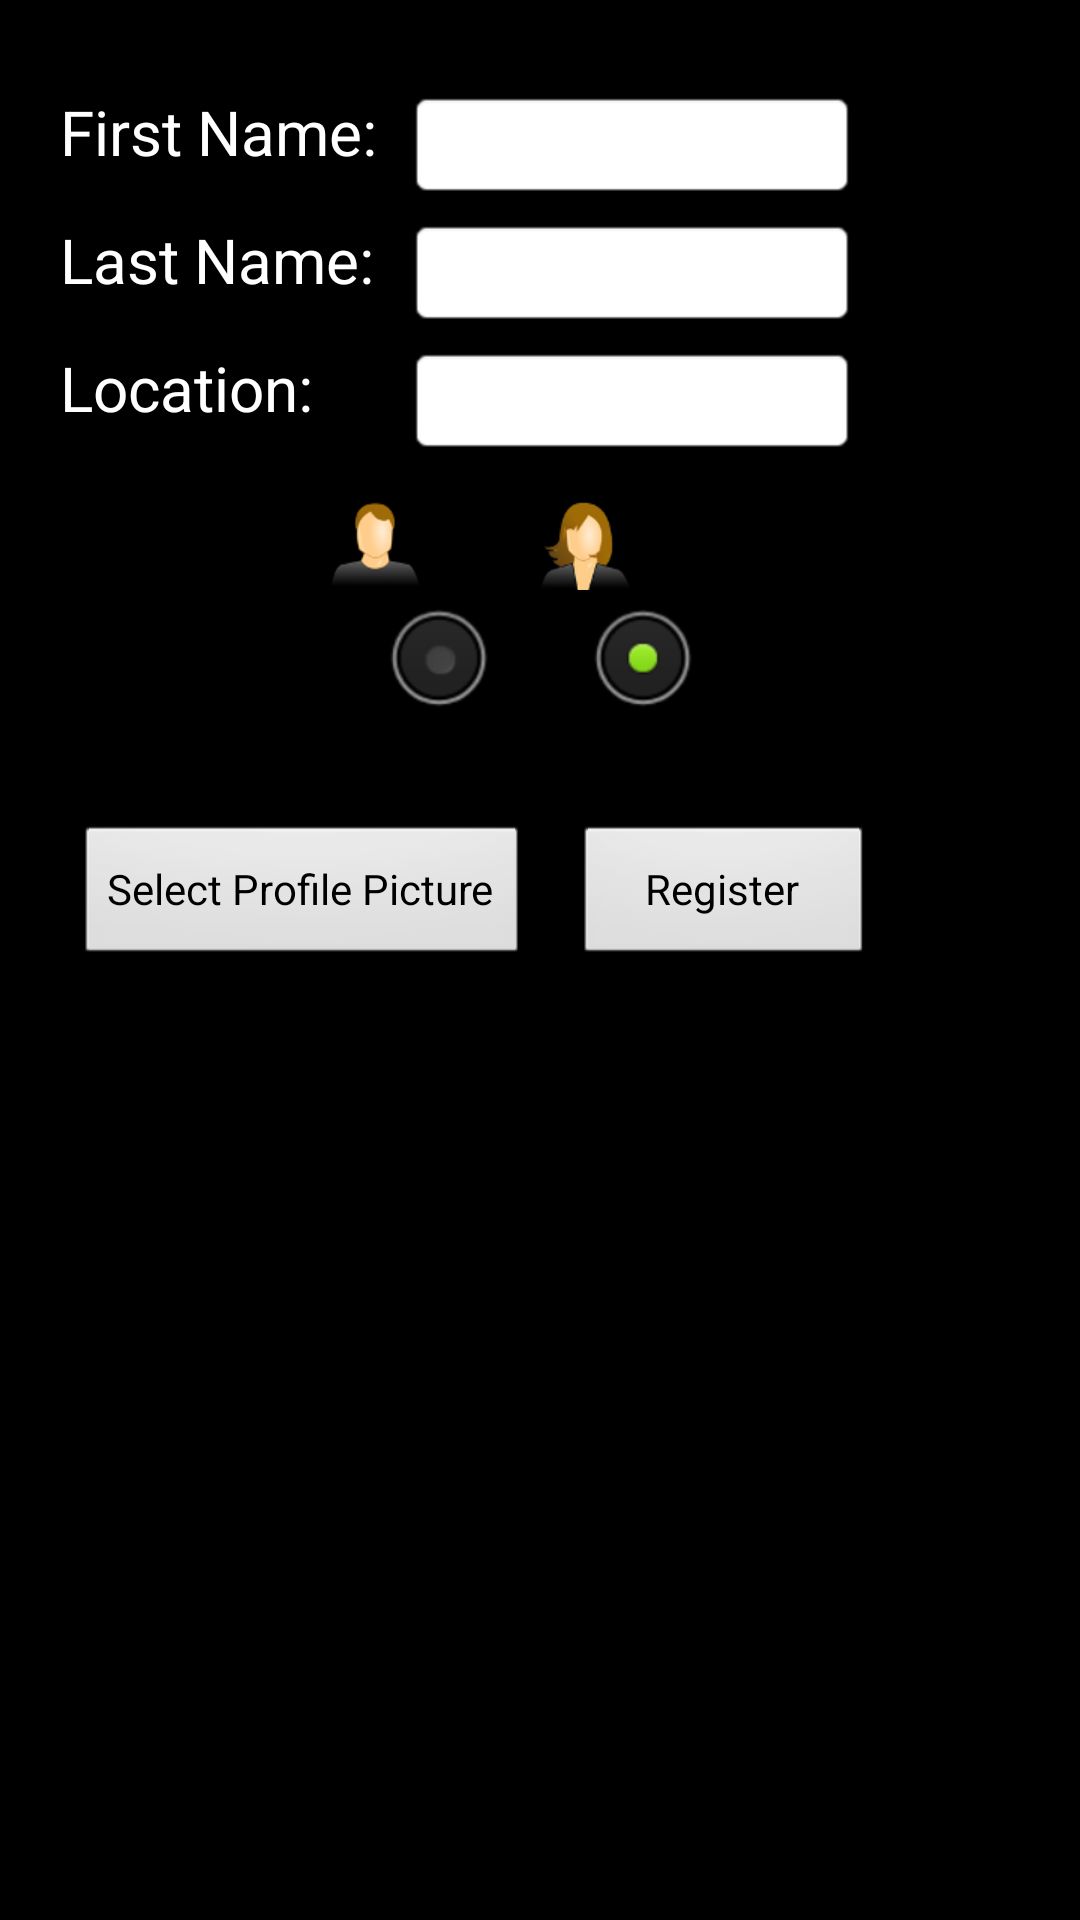

Icon click points for this 1080×1920 phone screenshot, format (x=x, y=y):
profile female: (x=585, y=546)
profile man: (x=375, y=541)
